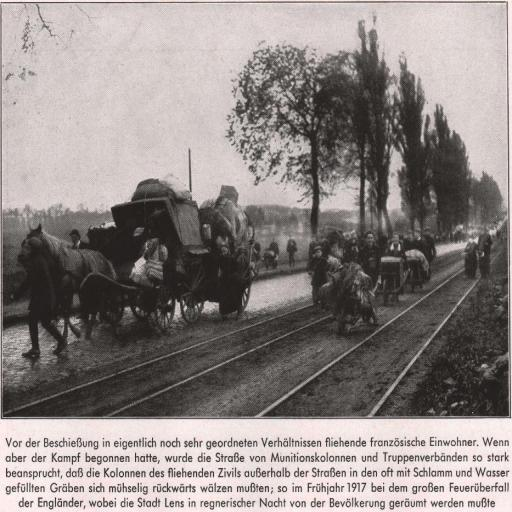horse: (23, 224, 116, 340)
